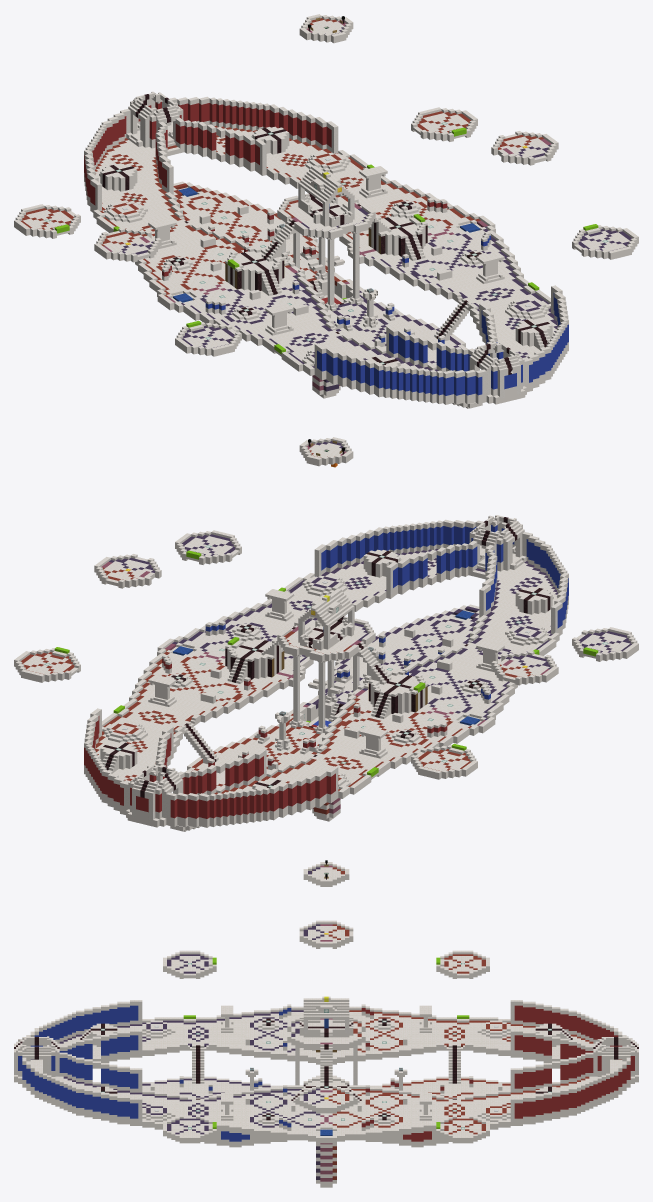
Rendered from minecraft.obj.
The picture shows the model from 3 angles, top to bottom: view 1: azimuth 30°, elevation 25°; view 2: azimuth 150°, elevation 25°; view 3: azimuth 270°, elevation 25°; orthographic projection. The views are drawn at different scales.
Bounding box in the file's own units: 107 × 84.52 × 151.
